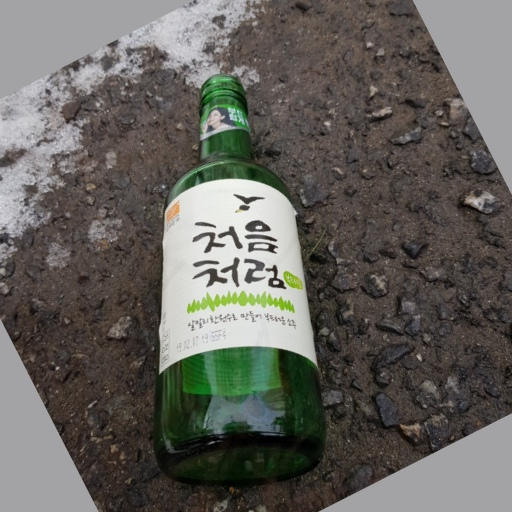Glass_0: (148, 72, 330, 484)
